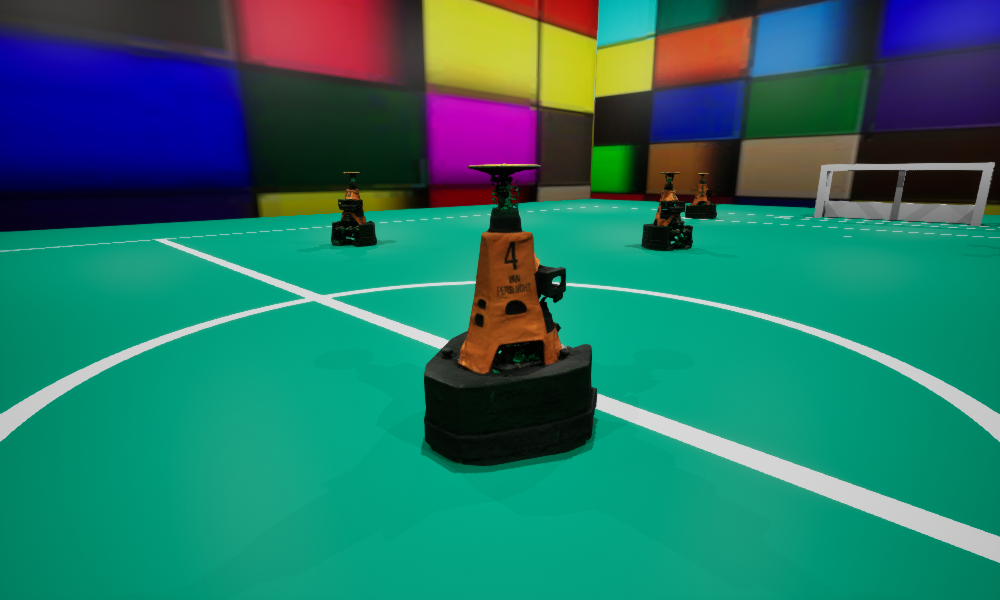o: (424, 163, 596, 465), (641, 172, 692, 250), (331, 172, 376, 245), (685, 173, 716, 218)
